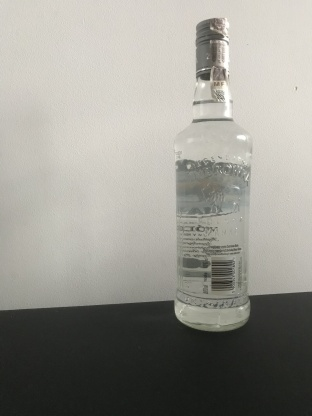nakretka: (193, 15, 231, 80)
